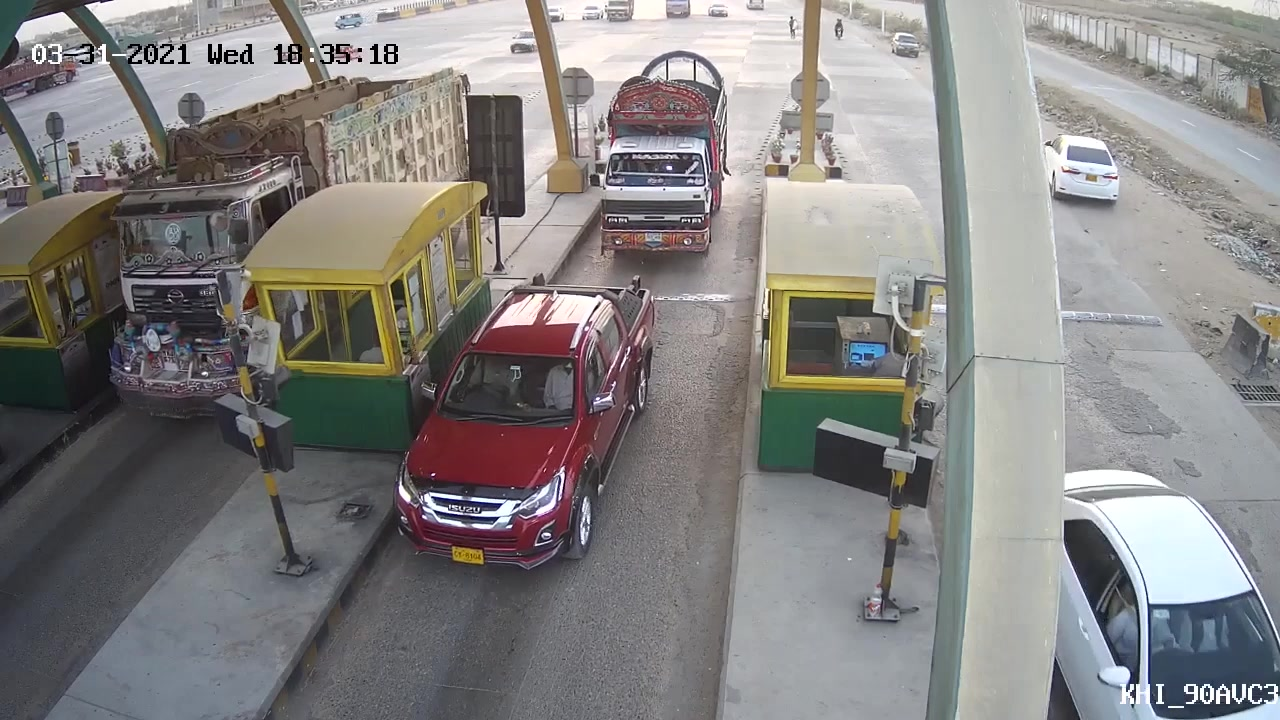F1: (379, 261, 660, 580)
F5: (589, 42, 736, 256)
